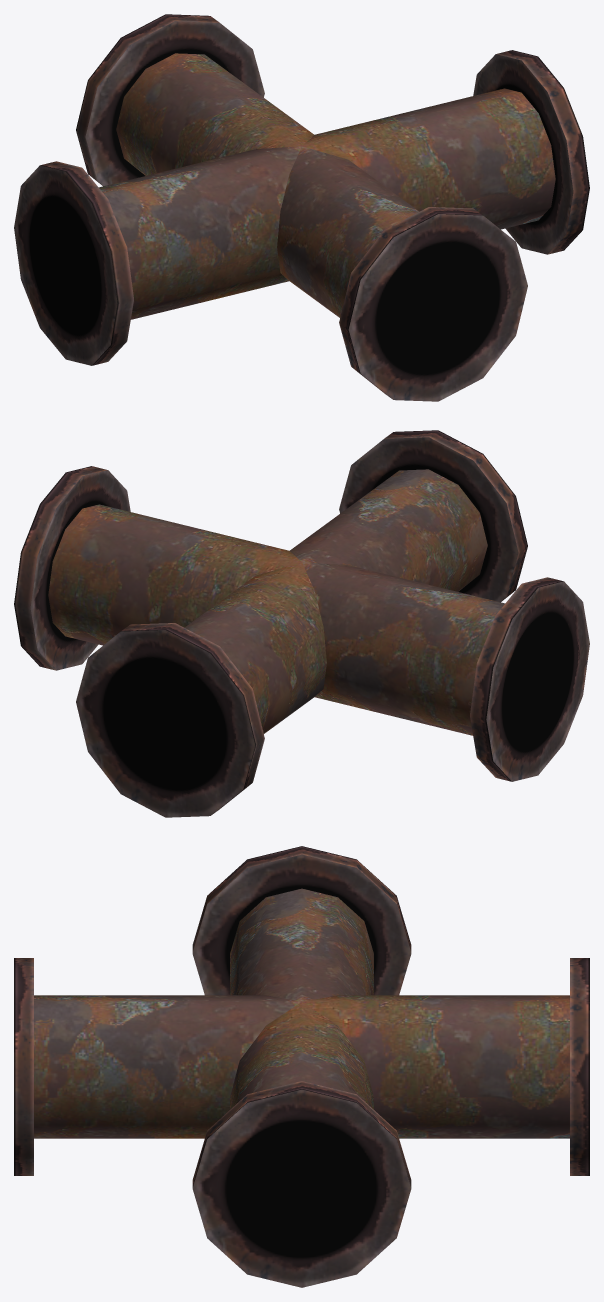
File: pipe02_X.fbx
3 views of the same model, one above another, from view 1: azimuth 30°, elevation 25°; view 2: azimuth 150°, elevation 25°; view 3: azimuth 270°, elevation 25° (orthographic). The views are drawn at different scales.
Parts seen in each view (by area): view 1: pipe02_X; view 2: pipe02_X; view 3: pipe02_X.
Part boxes in pixels (<box>): pipe02_X: <box>14,14,589,401</box>; pipe02_X: <box>14,430,589,817</box>; pipe02_X: <box>14,846,589,1287</box>.
Bounding box in the file's own units: 100 × 38 × 100.
